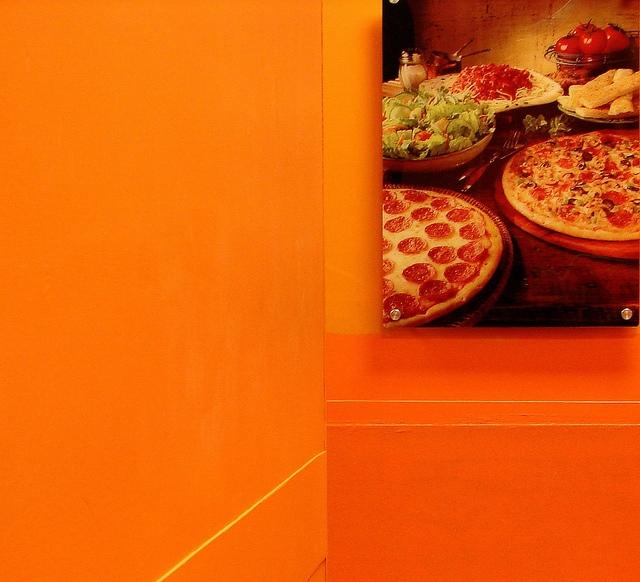tomato: (602, 26, 630, 54), (579, 27, 608, 54), (556, 29, 582, 54), (572, 18, 596, 36)
